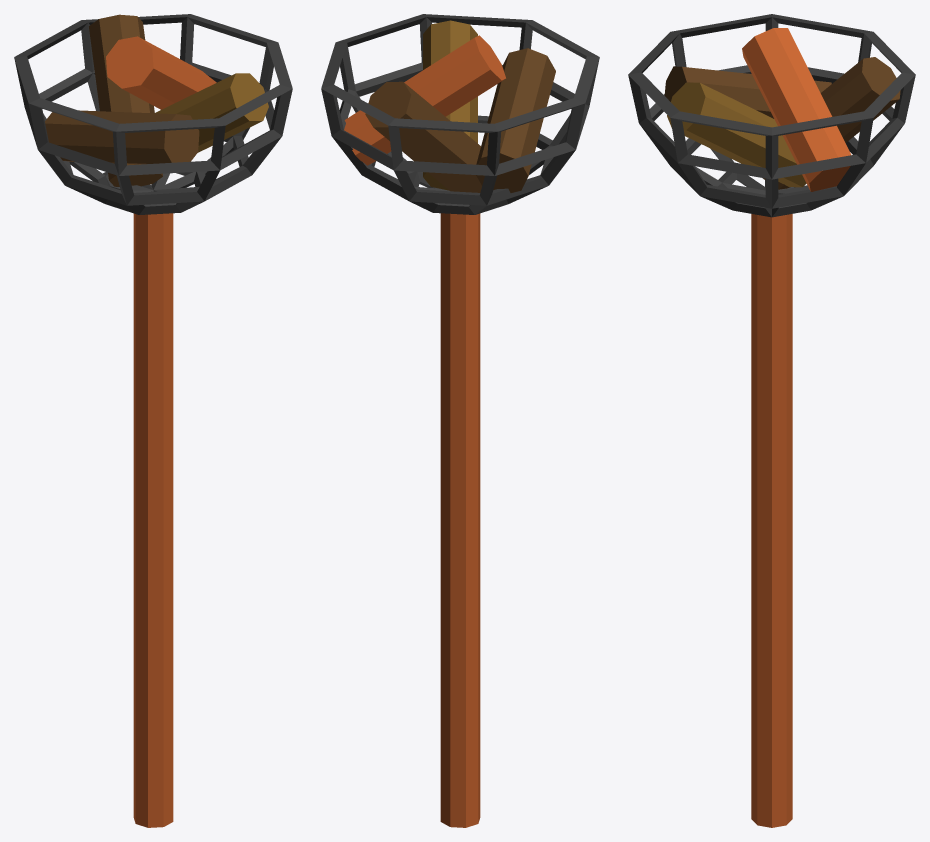
Rendered from Torch.obj.
3 views of the same model, side by side, from view 1: azimuth 30°, elevation 25°; view 2: azimuth 150°, elevation 25°; view 3: azimuth 270°, elevation 25° (orthographic).
Visible parts, largest first — view 1: Torch; view 2: Torch; view 3: Torch.
Part boxes in pixels (bbox=[...]): Torch: bbox=[14, 14, 292, 827]; Torch: bbox=[321, 14, 599, 827]; Torch: bbox=[628, 14, 915, 827].
Bounding box in the file's own units: 3.93 × 11.83 × 3.93.
